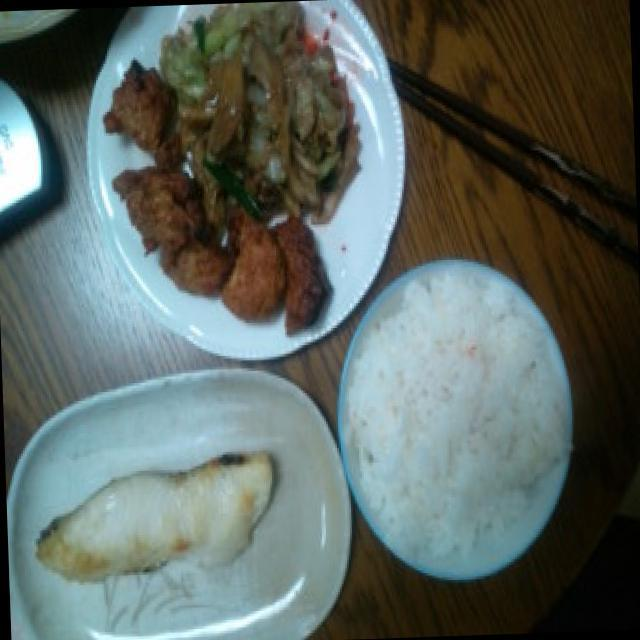Rice: (354, 272, 566, 550)
